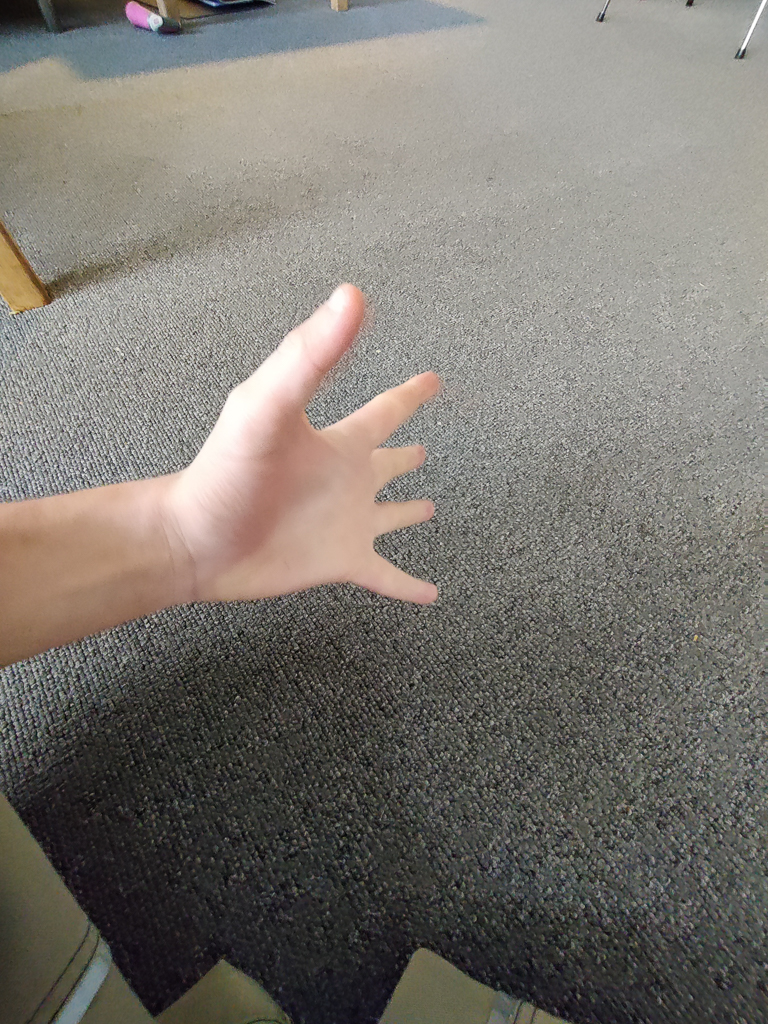Humanoid: (0, 258, 607, 1024)
